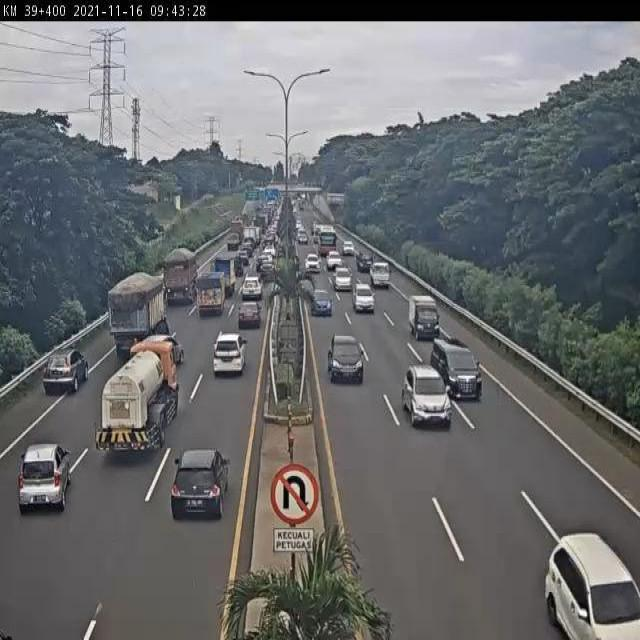car: (546, 528, 640, 640), (170, 444, 231, 527), (16, 431, 73, 513), (37, 334, 92, 402), (406, 360, 444, 424), (443, 345, 486, 396), (327, 335, 364, 384), (211, 332, 243, 385), (238, 303, 260, 332), (239, 276, 260, 300), (369, 260, 387, 283), (355, 283, 371, 307), (314, 287, 331, 309), (354, 247, 370, 269), (327, 248, 341, 268), (335, 269, 349, 288), (262, 259, 273, 281), (342, 241, 355, 259), (307, 253, 319, 271)
truck: (93, 331, 183, 459), (109, 271, 172, 360), (160, 250, 201, 310), (408, 294, 442, 342), (193, 271, 221, 323), (208, 259, 234, 300), (321, 227, 333, 253)
